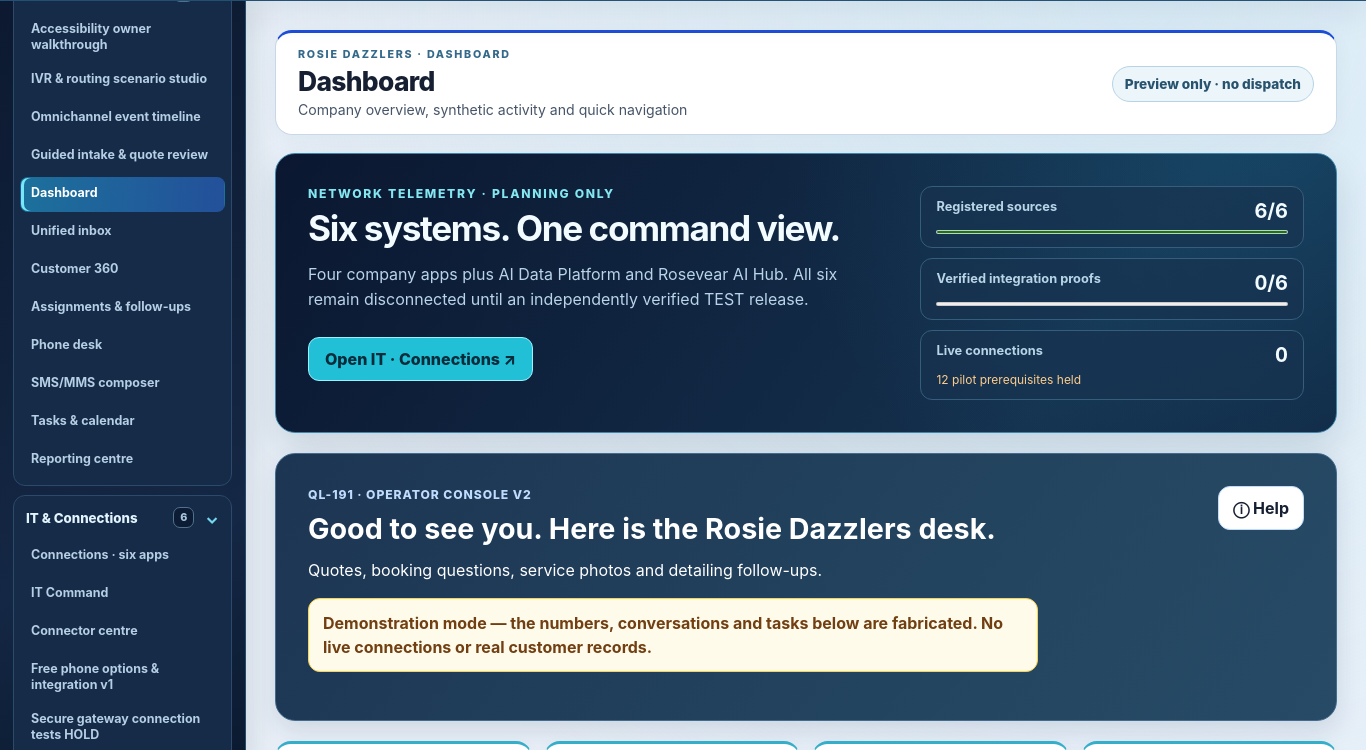
Test: QL-196 operator composer › changes templates and attachment descriptions without uploading or sending
(page scrolled)
Click the button "SMS/MMS composer".
click(122, 385)  # box [20,367,225,402]
(page scrolled)
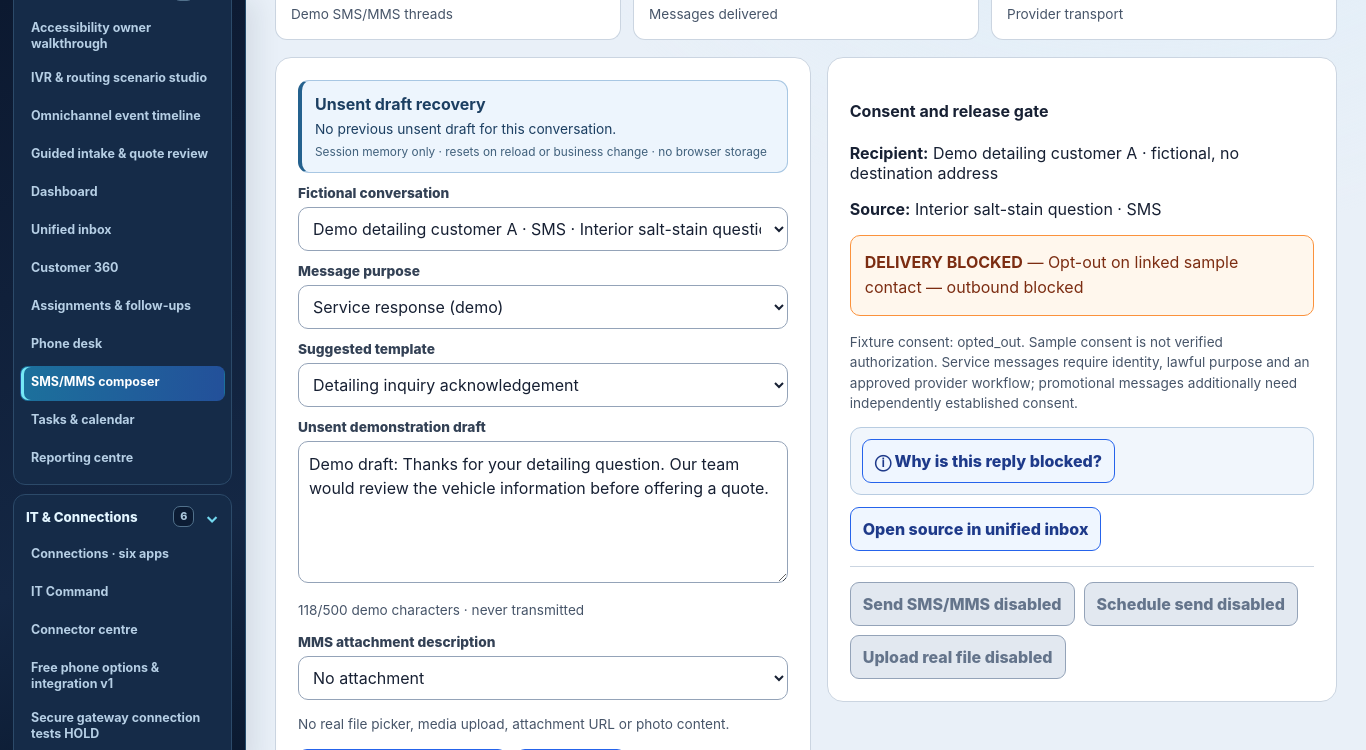
Select "Appointment follow-up" in the dropdown labelled "Suggested template" at point(543, 385), box [298,363,788,407]
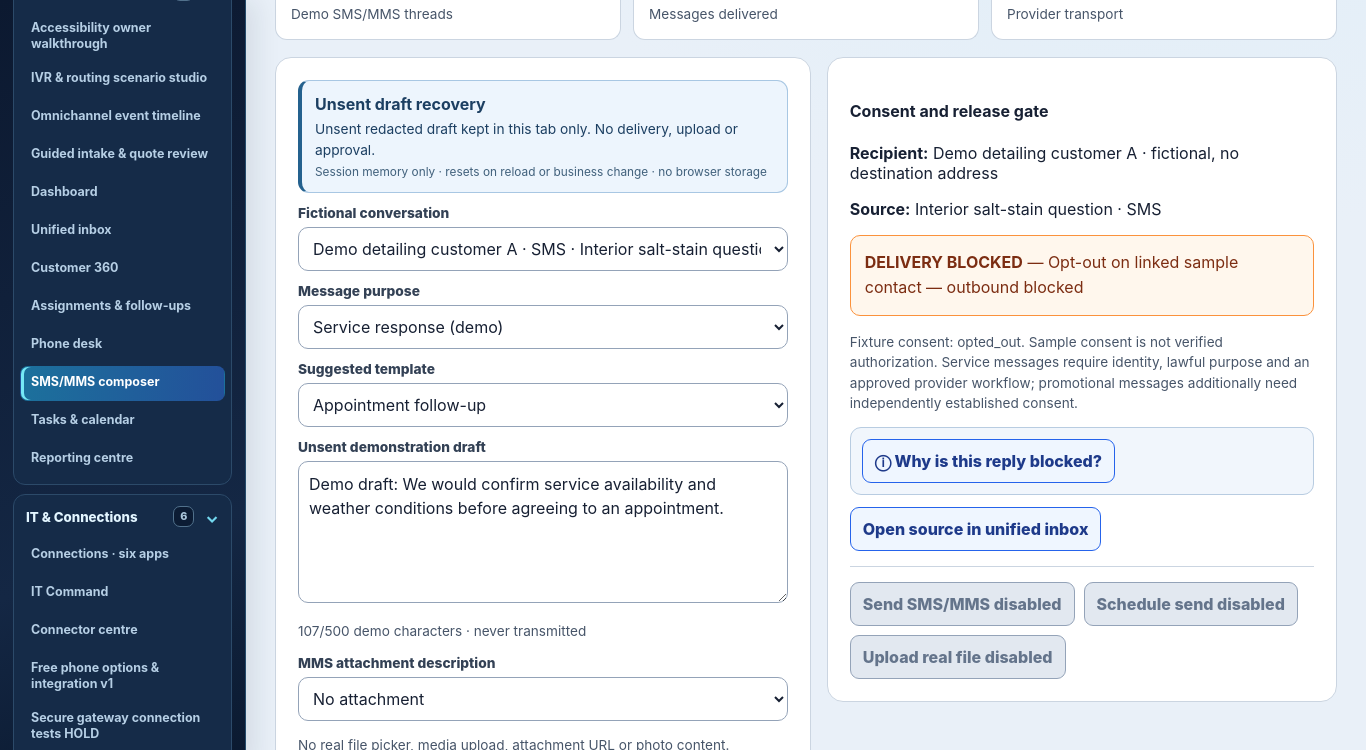
Select "Fictional image placeholder" in the dropdown labelled "MMS attachment description" at point(543, 699), box [298,677,788,721]
(page scrolled)
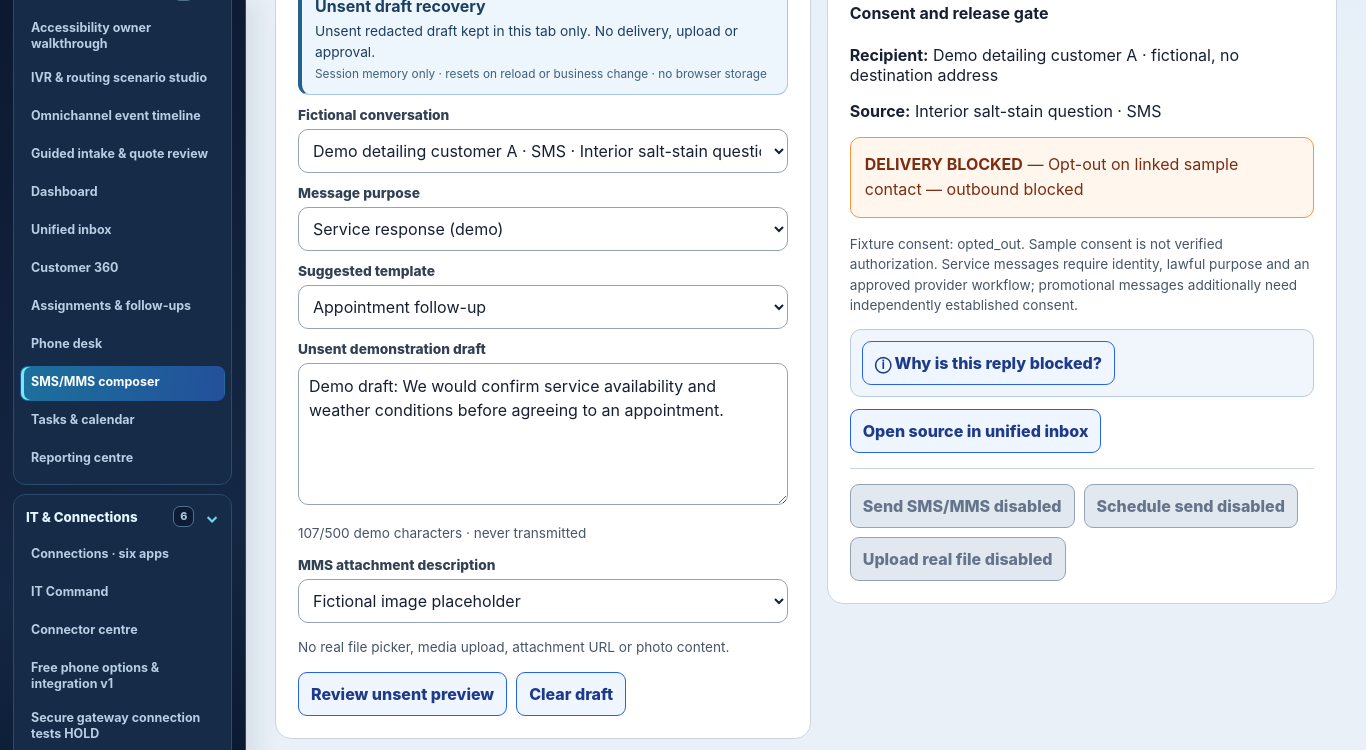
Click the button "Review unsent preview".
click(403, 694)  # box [298,672,507,716]
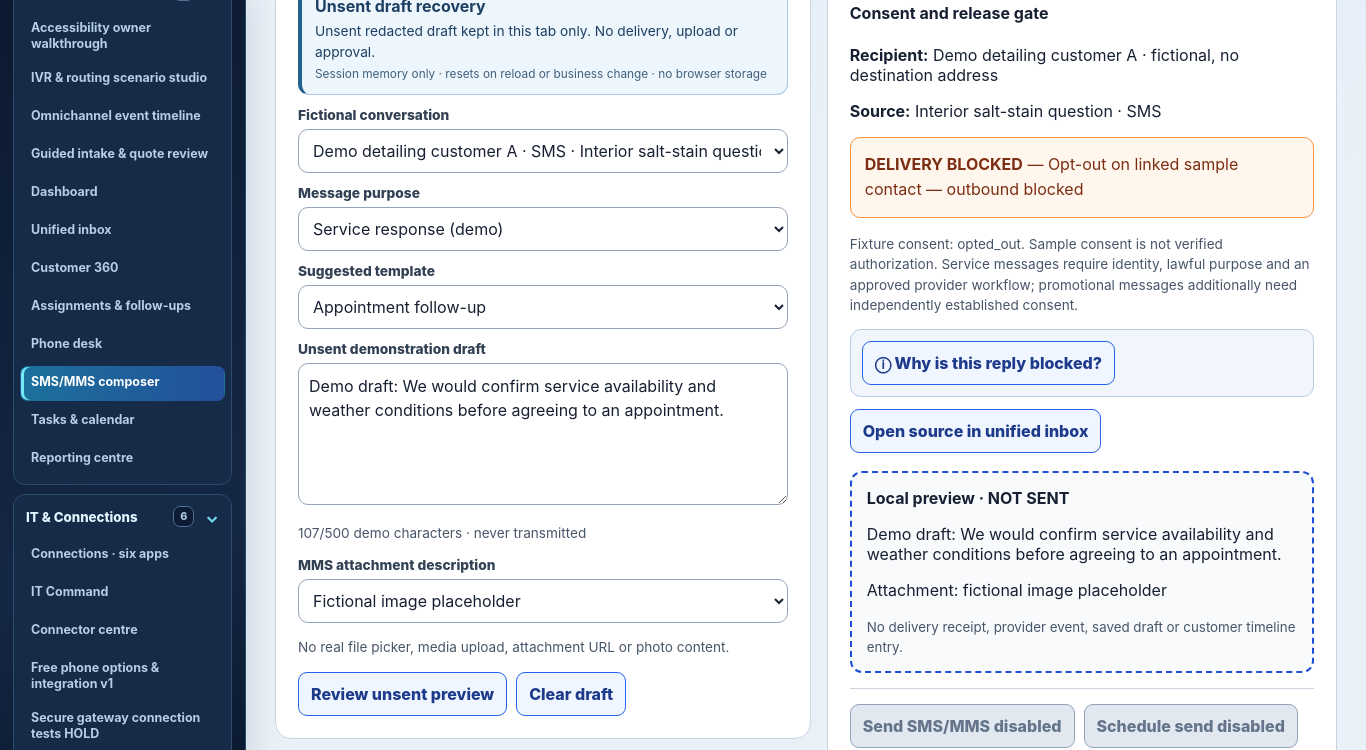
Expected: the element named "Unsent draft preview" shows "fictional image placeholder", [963,580,1167,600]
Click the button "Clear draft".
click(571, 694)  # box [516,672,626,716]
(page scrolled)
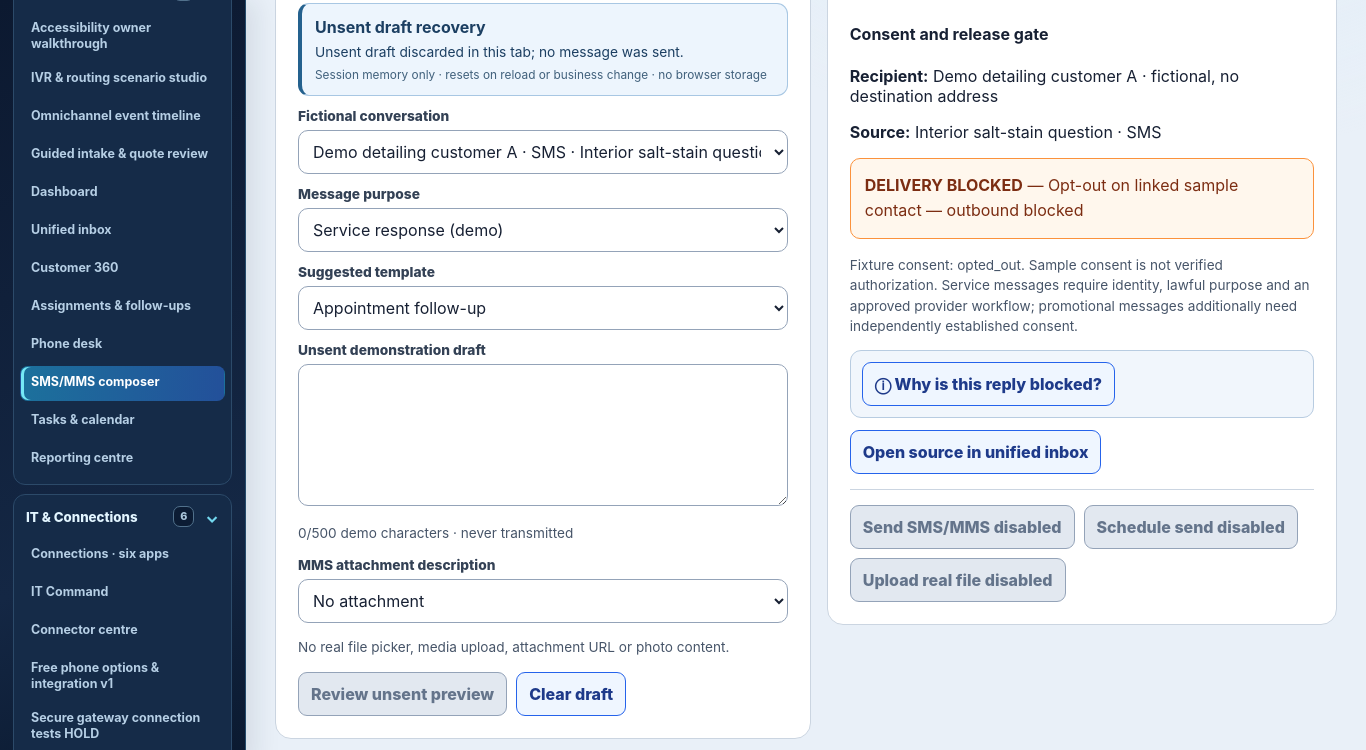
Expected: the text box labelled "Unsent demonstration draft" is empty, [298,364,788,506]
